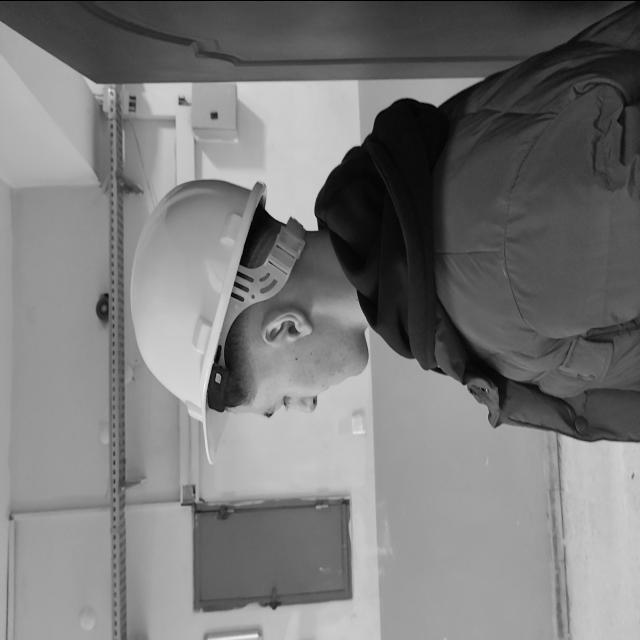safety_helmet: (130, 176, 312, 458)
